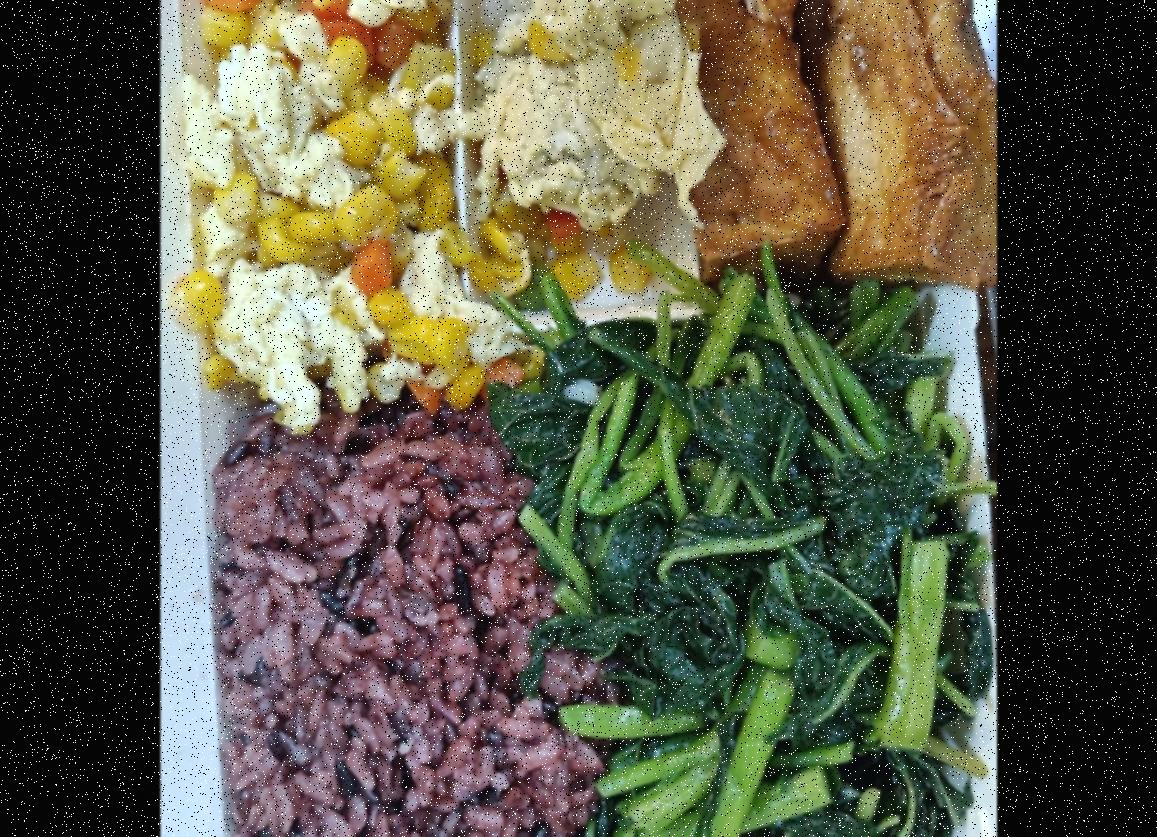box: (178, 0, 997, 837)
purple rice: (210, 396, 589, 837)
side dish: (540, 291, 984, 837), (194, 0, 696, 424), (676, 0, 997, 289)
